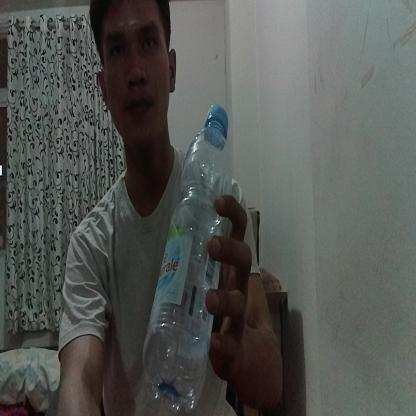plastic_bottles: (140, 102, 231, 416)
